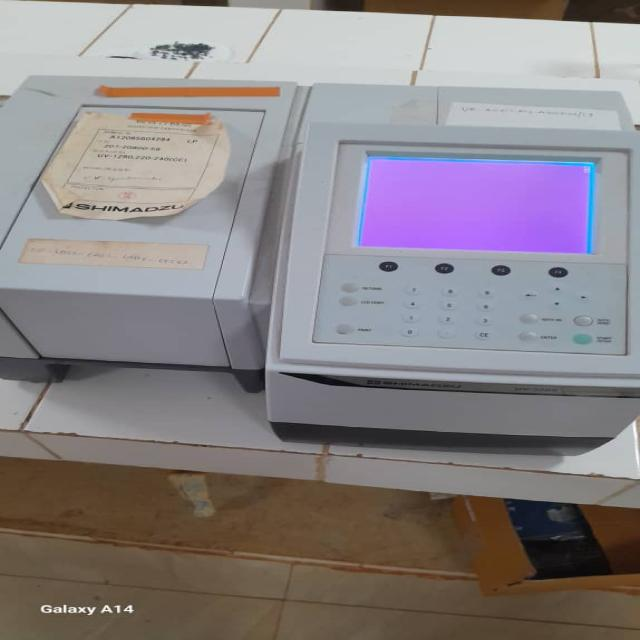Spectrophotometer: (13, 79, 640, 456)
